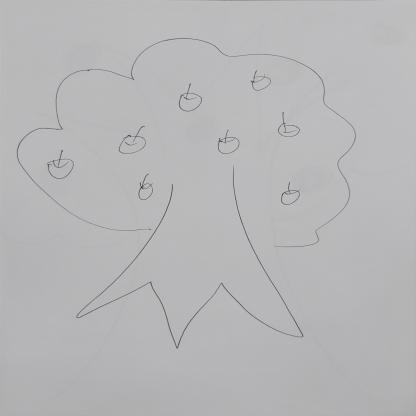apple: (41, 149, 79, 180), (118, 125, 148, 155), (175, 85, 204, 115), (216, 128, 242, 156), (277, 115, 302, 139), (249, 70, 274, 93), (137, 174, 158, 201), (278, 186, 301, 206)
crown_cloud: (13, 36, 359, 250)
root_only: (76, 273, 309, 352)
trunk_reflex: (108, 231, 272, 276)
